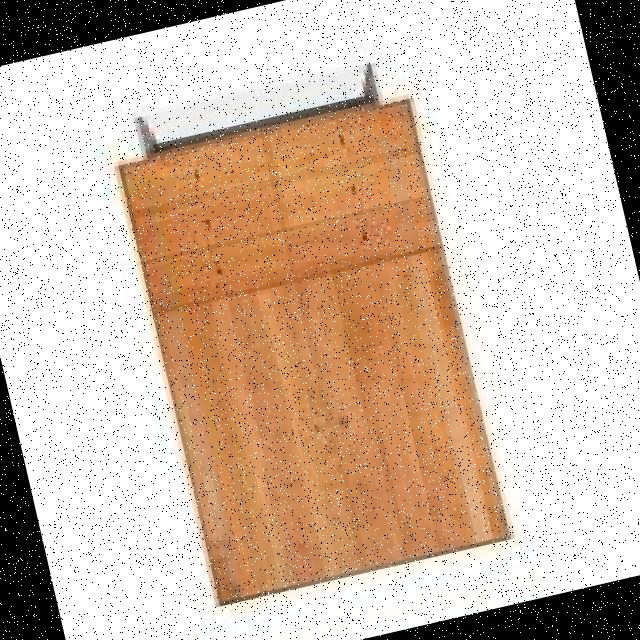Closet: (90, 48, 524, 620)
